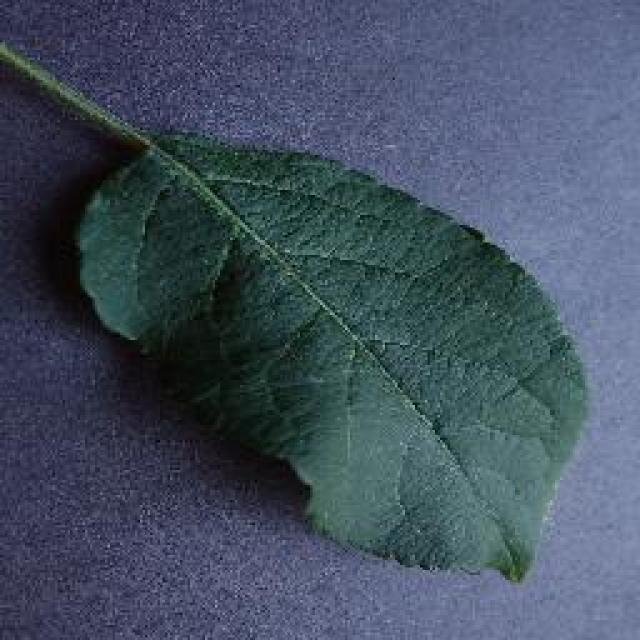apple healthy: (0, 0, 592, 582)
